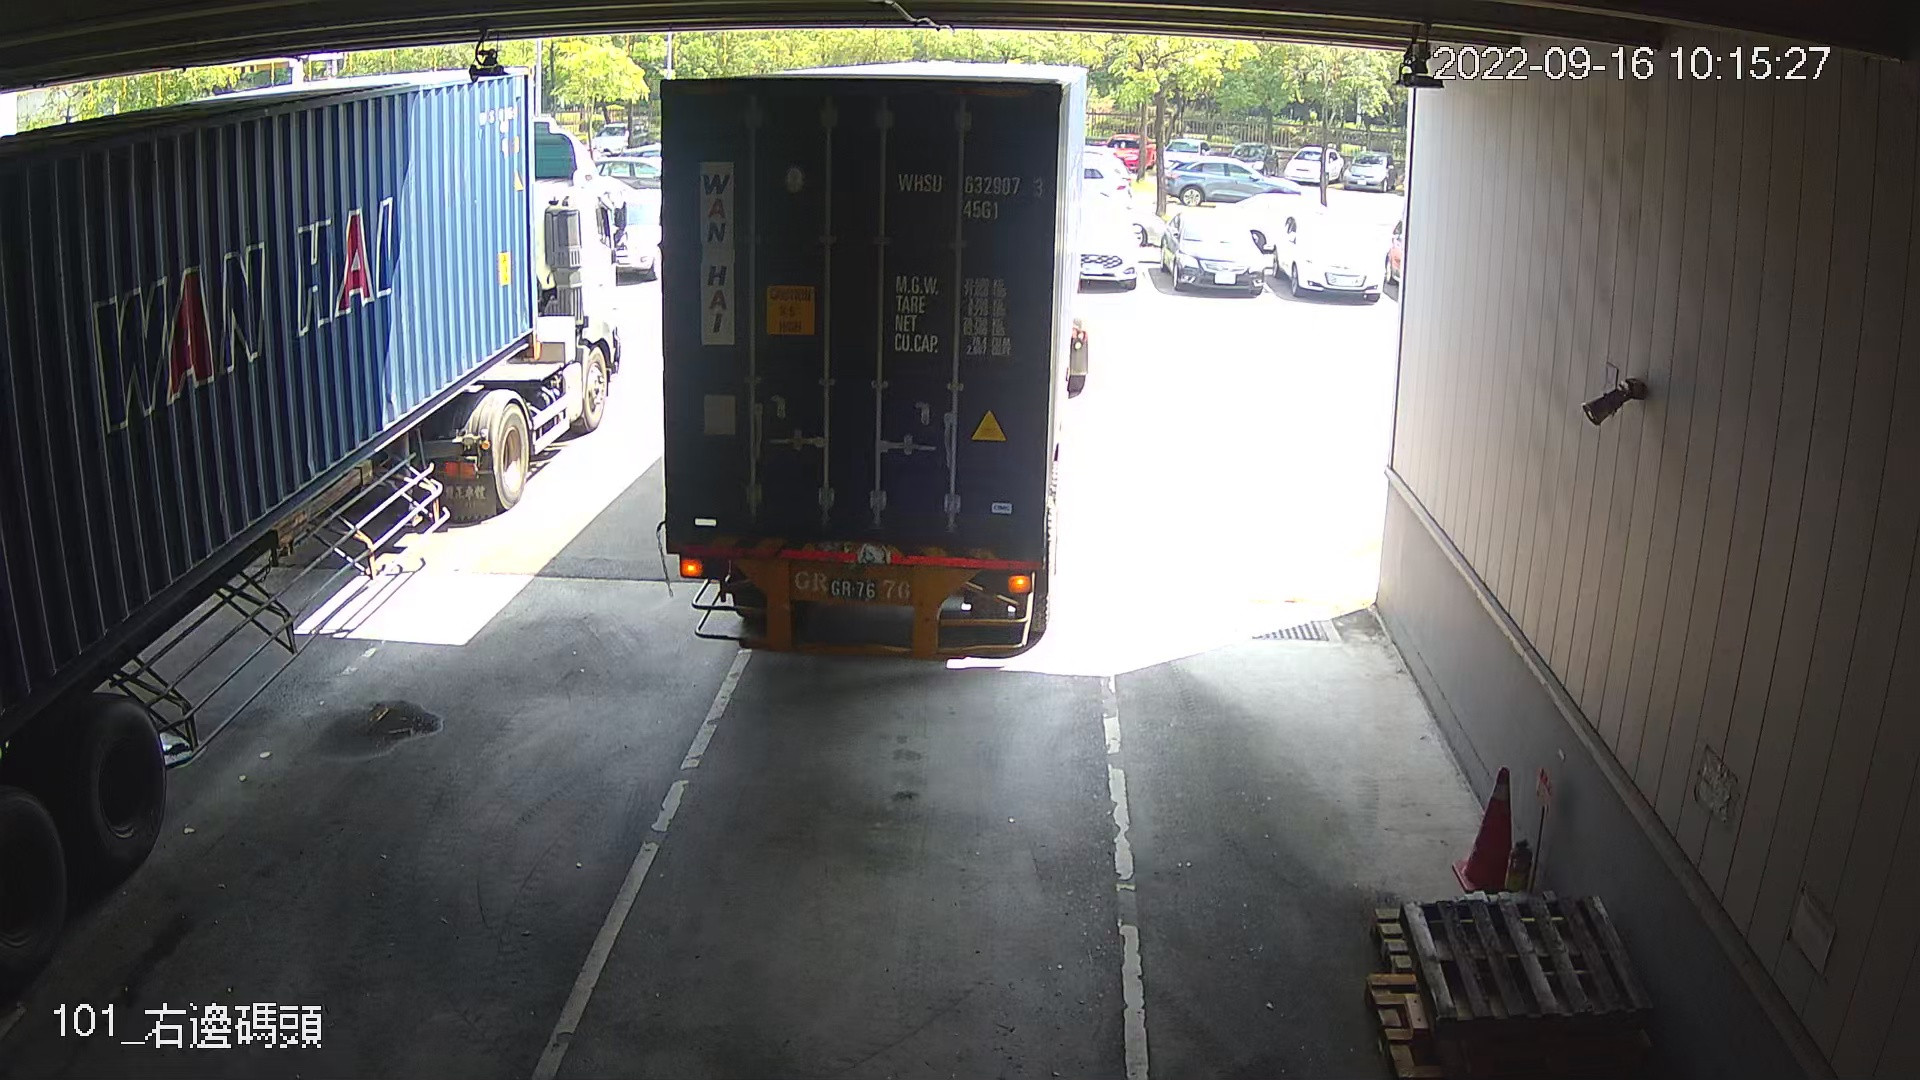container: (887, 164, 1051, 224)
